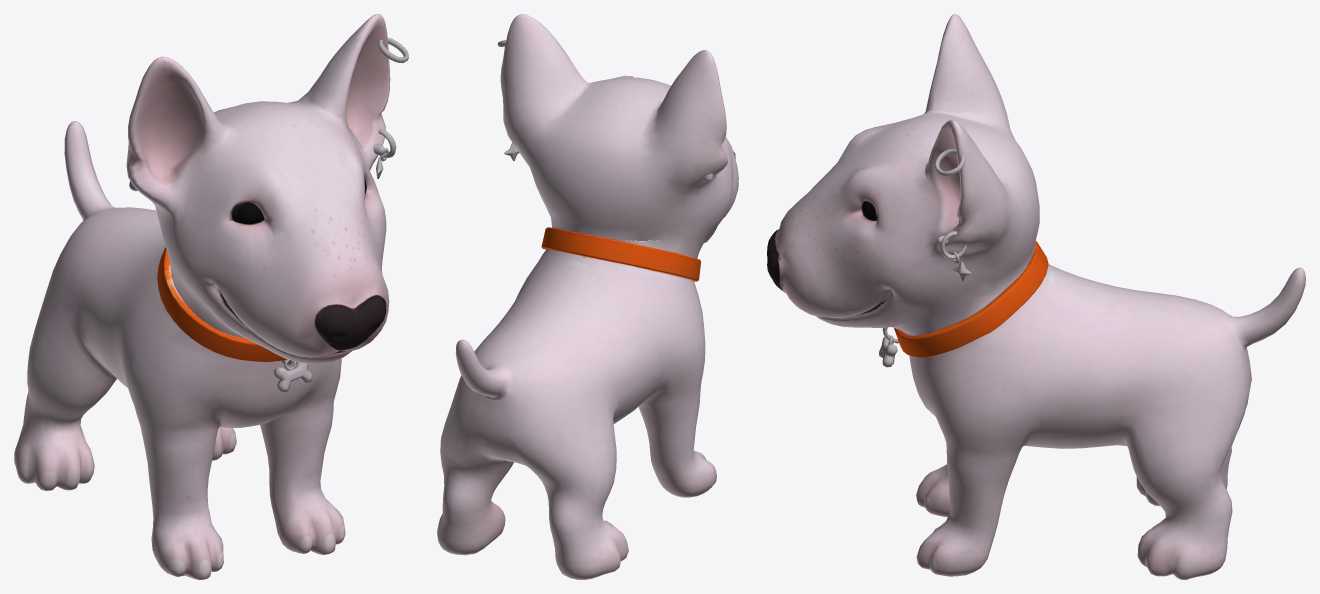
File: tripo_model.glb
The picture shows the model from 3 angles, left to right: view 1: azimuth 30°, elevation 25°; view 2: azimuth 150°, elevation 25°; view 3: azimuth 270°, elevation 25°; orthographic projection. The views are drawn at different scales.
Parts seen in each view (by area): view 1: tripo_4aaab7ab_257b_482f_8141_a4c3f5040275; view 2: tripo_4aaab7ab_257b_482f_8141_a4c3f5040275; view 3: tripo_4aaab7ab_257b_482f_8141_a4c3f5040275.
Boxes of the visible parts, x1=… form: tripo_4aaab7ab_257b_482f_8141_a4c3f5040275: x1=14, y1=14, x2=408, y2=579; tripo_4aaab7ab_257b_482f_8141_a4c3f5040275: x1=437, y1=14, x2=738, y2=579; tripo_4aaab7ab_257b_482f_8141_a4c3f5040275: x1=767, y1=14, x2=1305, y2=579.
Size of the model in its own units: 0.5386 by 0.9937 by 0.9995.
1 material, 1 textured.
